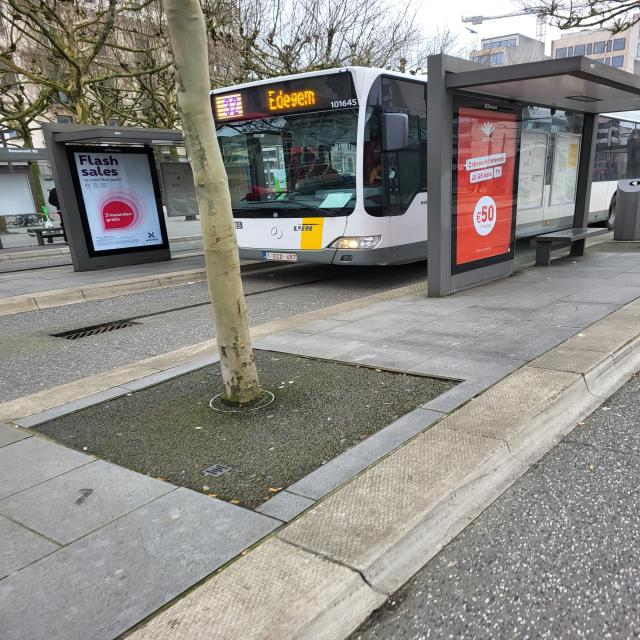bus-number: (220, 96, 242, 117)
